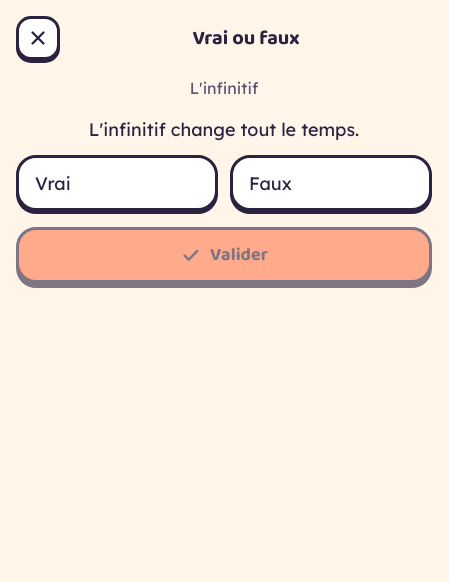
GameScreen, quiz and true or false › a wrong answer gets a calm waiting mascot, and « Encore une fois » starts the game over
Click the button "Vrai".
click(117, 183)  # box [16,155,218,211]
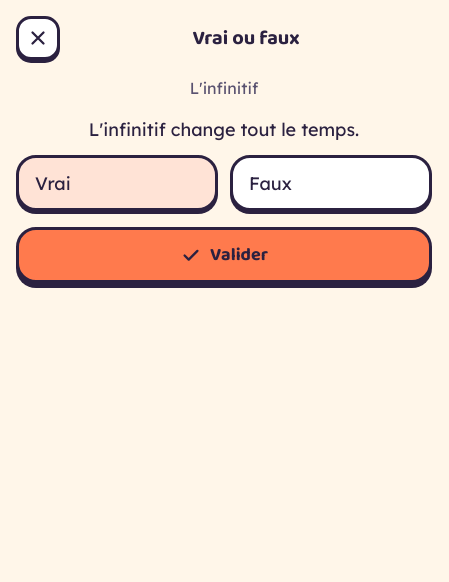
Click the button "Valider".
click(224, 255)  # box [16,227,432,283]
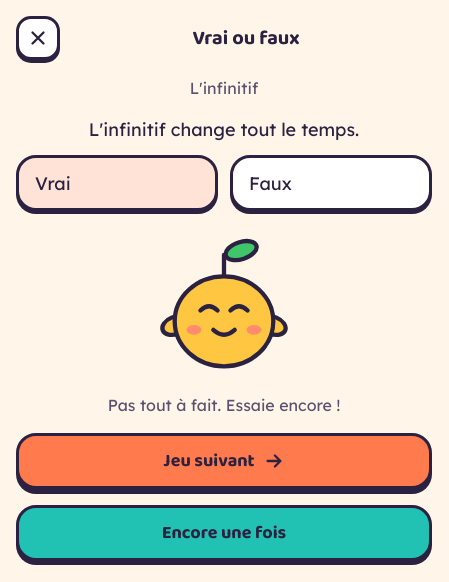
Expected: the text "Pas tout à fait. Essaie encore !" is shown, [108,393,340,417]
Click the button "Encore une fois".
click(224, 533)  # box [16,505,432,561]
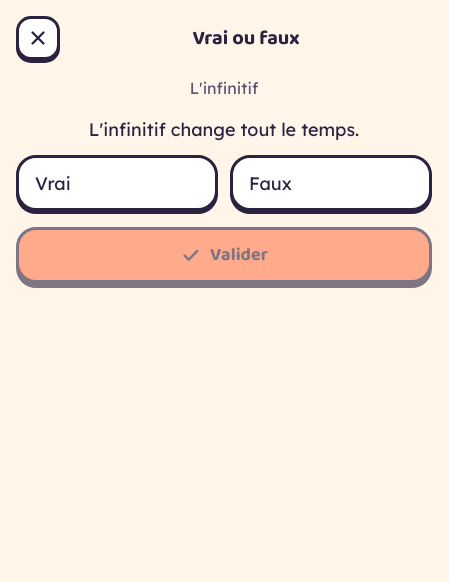
Expected: the button "Valider" is disabled, [16,227,432,283]
Expected: the icon with test id "mascot" is gone
